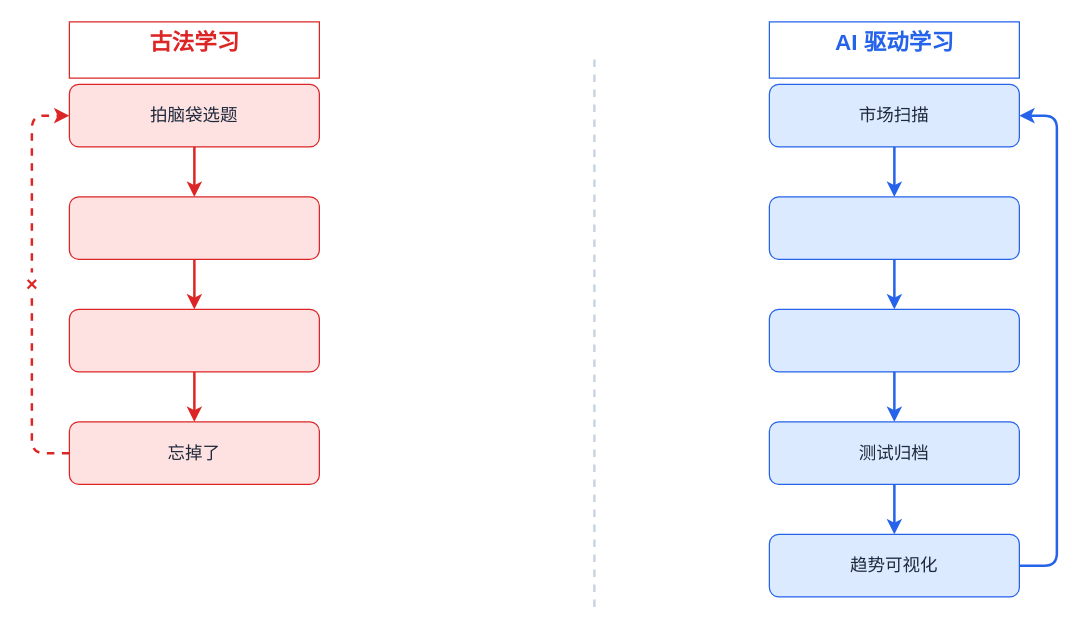
Image size: 1089x634. Some labels were removed from this diagram. Here are the shapes that lost their labels. From the top down, the box of each, then its label:
(68, 196, 319, 259): 看资料/教程
(768, 196, 1019, 259): 能力评估
(68, 308, 319, 372): 写 demo
(768, 308, 1019, 372): 系统学习
